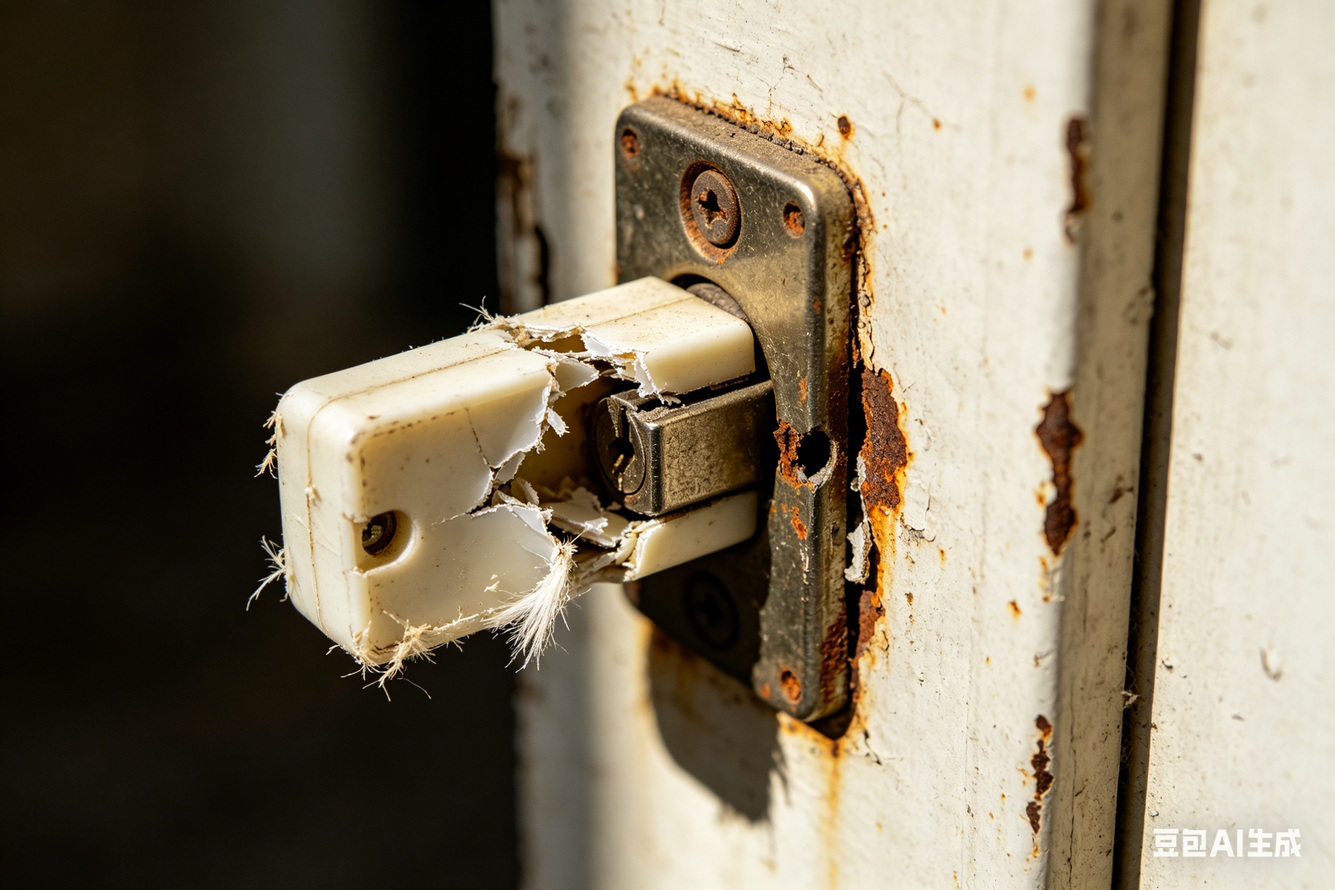BadLock: (472, 309, 846, 612)
